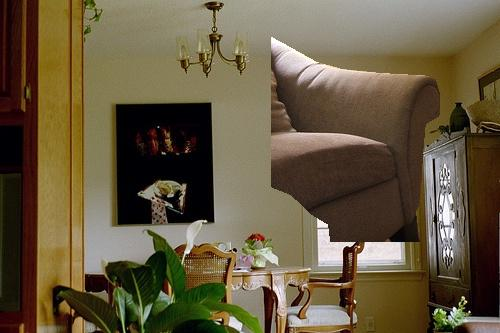tampered: (272, 38, 440, 242)
